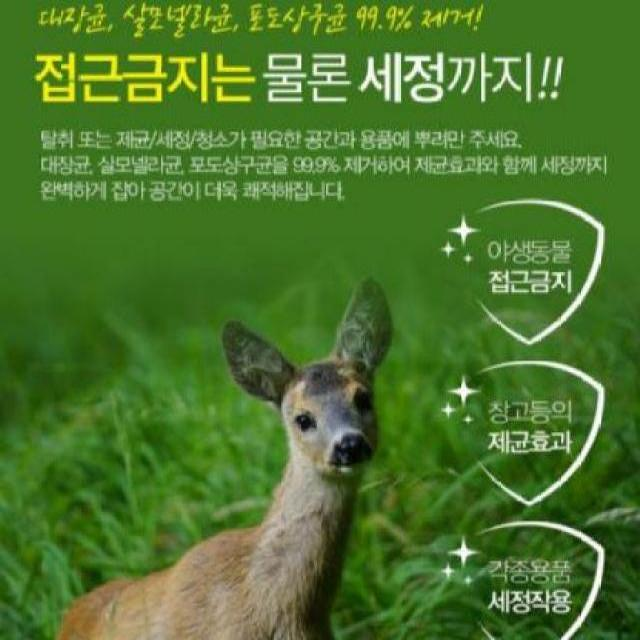deer: (44, 274, 400, 640)
